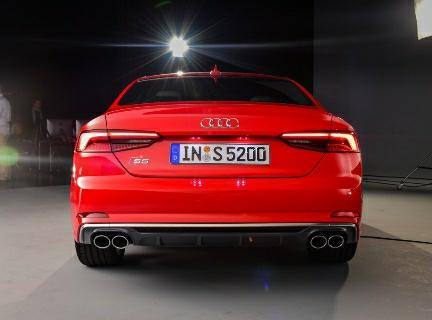car: (65, 63, 373, 277)
